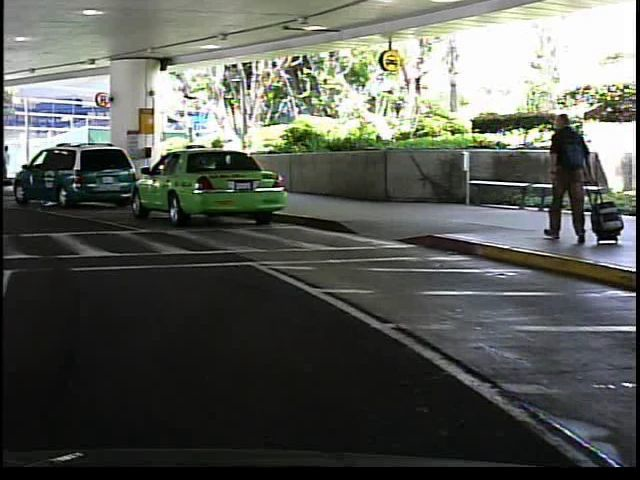person: (533, 104, 597, 252)
